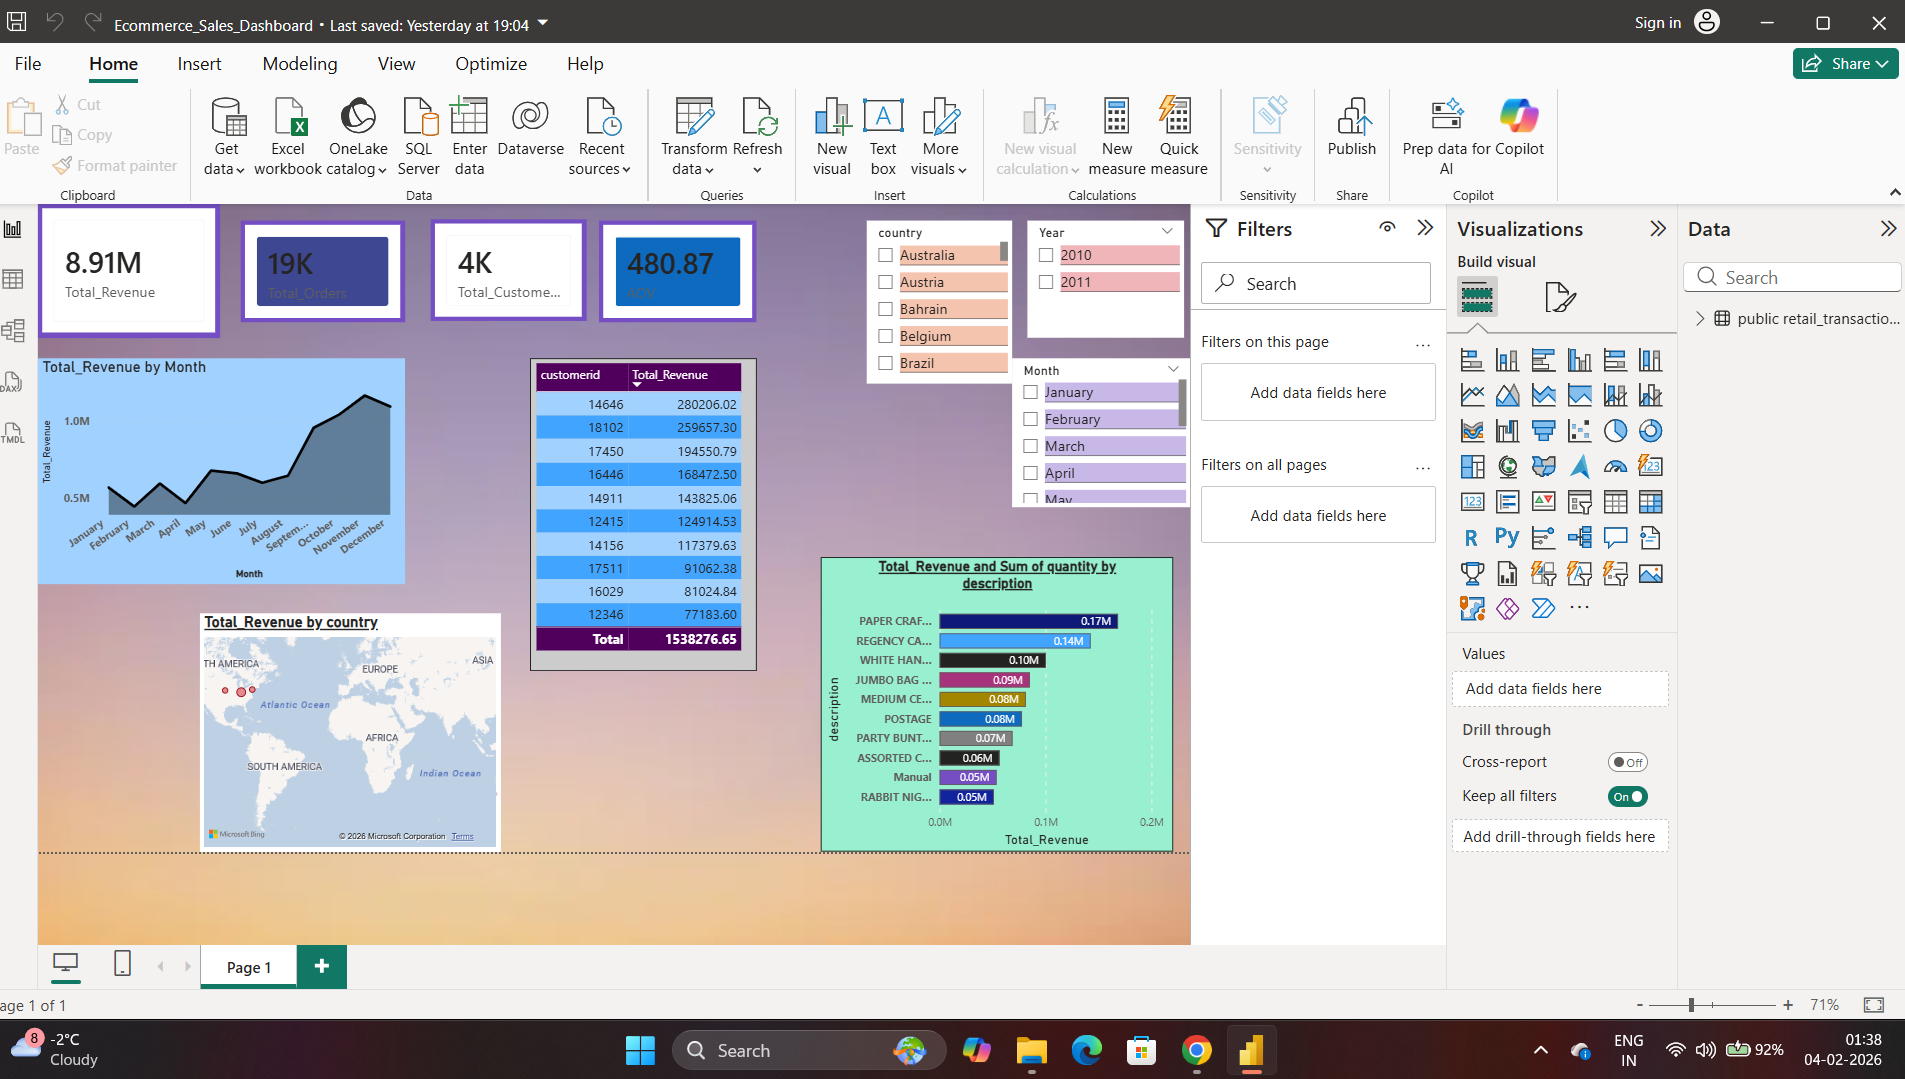

This screenshot's page, from the dashboard's own definition file:
{"tool":"powerbi","page":{"name":"Page 1","canvas":[1280,720],"ordinal":0},"visuals":[{"type":"cardVisual","fields":{"Data":["public retail_transactions.Total_Revenue"]},"box":[0,0,202.6,148.8],"z":0},{"type":"cardVisual","fields":{"Data":["public retail_transactions.Total_Orders"]},"box":[225,19.1,182.4,113.2],"z":1000},{"type":"cardVisual","fields":{"Data":["public retail_transactions.Total_Customers"]},"box":[436.8,17.6,173.5,113.2],"z":2000},{"type":"cardVisual","fields":{"Data":["public retail_transactions.AOV"]},"box":[623.5,19.1,175,113.2],"z":3000},{"type":"lineChart","fields":{"Category":["public retail_transactions.invoicedate.Variation.Date Hierarchy.Month"],"Y":["public retail_transactions.Total_Revenue"]},"box":[0,171.4,408,250.8],"z":4000},{"type":"tableEx","fields":{"Values":["public retail_transactions.customerid","public retail_transactions.Total_Revenue"]},"box":[547.1,172.1,251.5,347.1],"z":5000},{"type":"barChart","fields":{"Category":["public retail_transactions.description"],"Y":["public retail_transactions.Total_Revenue"]},"box":[869.8,392.4,391,327.3],"z":6000},{"type":"map","fields":{"Category":["public retail_transactions.country"],"Size":["public retail_transactions.Total_Revenue"]},"box":[179.9,454.8,334.3,264.9],"z":7000},{"type":"slicer","fields":{"Values":["public retail_transactions.country"]},"box":[920.8,18.4,161.5,181.3],"z":8000},{"type":"slicer","fields":{"Values":["public retail_transactions.invoicedate.Variation.Date Hierarchy.Year"]},"box":[1099.4,18.4,174.3,130.3],"z":9000},{"type":"slicer","fields":{"Values":["public retail_transactions.invoicedate.Variation.Date Hierarchy.Month"]},"box":[1082.3,171.4,198.3,165.8],"z":10000}]}

Visuals, with their boxes on the page's 1280x720 design canvas (x1, y1, x2, y2). These are canvas units, not pixel positions in the 1905x1079 screenshot, which may show the page scaled, cropped or inside an application window:
cardVisual - public retail_transactions.Total_Revenue: 0:0:203:149
cardVisual - public retail_transactions.Total_Orders: 225:19:407:132
cardVisual - public retail_transactions.Total_Customers: 437:18:610:131
cardVisual - public retail_transactions.AOV: 624:19:798:132
lineChart - public retail_transactions.invoicedate.Variation.Date Hierarchy.Month x public retail_transactions.Total_Revenue: 0:171:408:422
tableEx - public retail_transactions.customerid x public retail_transactions.Total_Revenue: 547:172:799:519
barChart - public retail_transactions.description x public retail_transactions.Total_Revenue: 870:392:1261:720
map - public retail_transactions.country x public retail_transactions.Total_Revenue: 180:455:514:720
slicer - public retail_transactions.country: 921:18:1082:200
slicer - public retail_transactions.invoicedate.Variation.Date Hierarchy.Year: 1099:18:1274:149
slicer - public retail_transactions.invoicedate.Variation.Date Hierarchy.Month: 1082:171:1281:337
